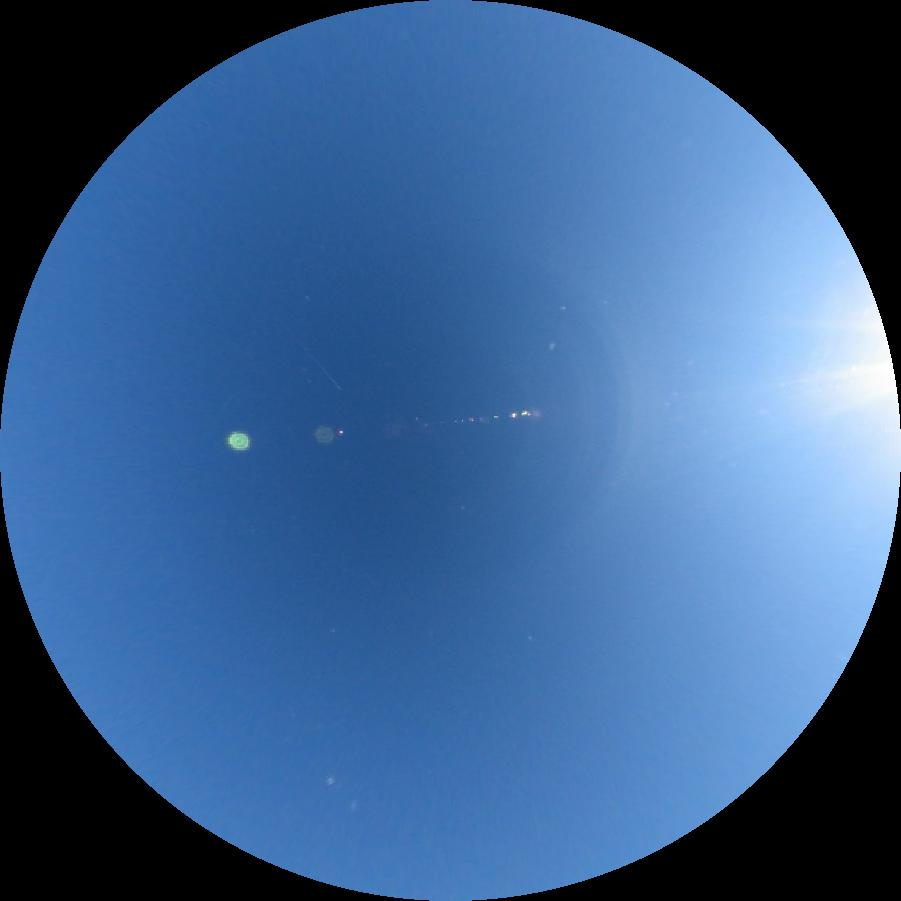contrail maybe: (209, 394, 231, 434), (355, 569, 378, 591)
contrail young: (290, 333, 345, 394)
